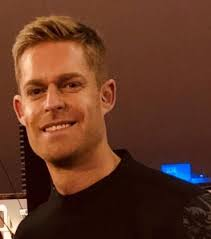white_male: (11, 39, 109, 161)
